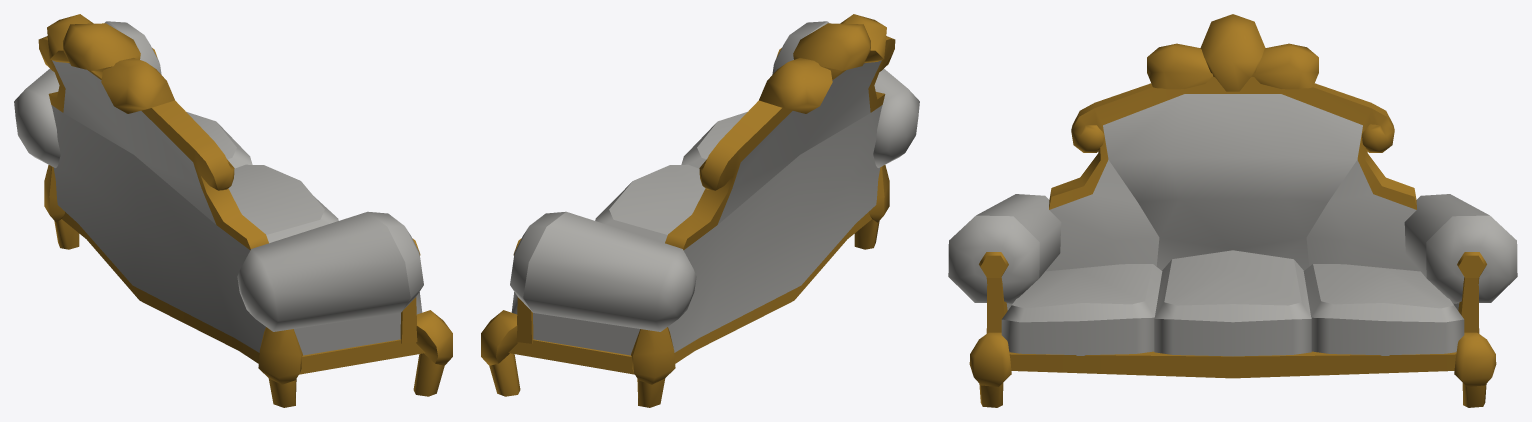
File: couch_a.fbx
3 views of the same model, side by side, from view 1: azimuth 30°, elevation 25°; view 2: azimuth 150°, elevation 25°; view 3: azimuth 270°, elevation 25° (orthographic). The views are drawn at different scales.
Visible parts, largest first — view 1: couch_A_fabric, couch_A_metal; view 2: couch_A_fabric, couch_A_metal; view 3: couch_A_fabric, couch_A_metal.
Boxes of the visible parts, <box> form: couch_A_fabric: <box>14,21,423,355</box>; couch_A_metal: <box>38,14,452,407</box>; couch_A_fabric: <box>510,21,919,355</box>; couch_A_metal: <box>481,14,895,407</box>; couch_A_fabric: <box>948,94,1517,356</box>; couch_A_metal: <box>969,14,1496,407</box>.
Size of the model in its own units: 4.61 by 5.56 by 9.79.
